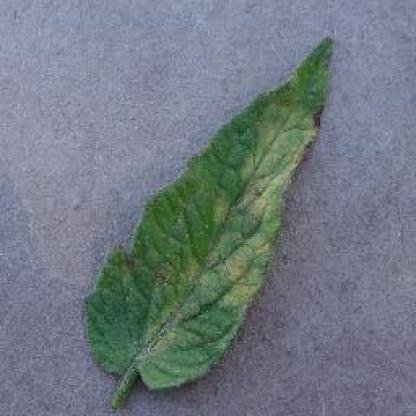bad leaf: (60, 22, 356, 406)
